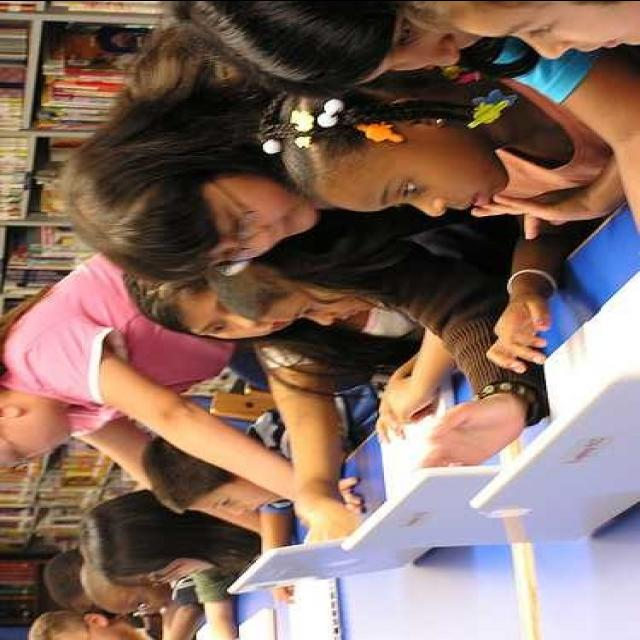laptop: (471, 382, 640, 509), (354, 484, 574, 544), (241, 546, 389, 588)
